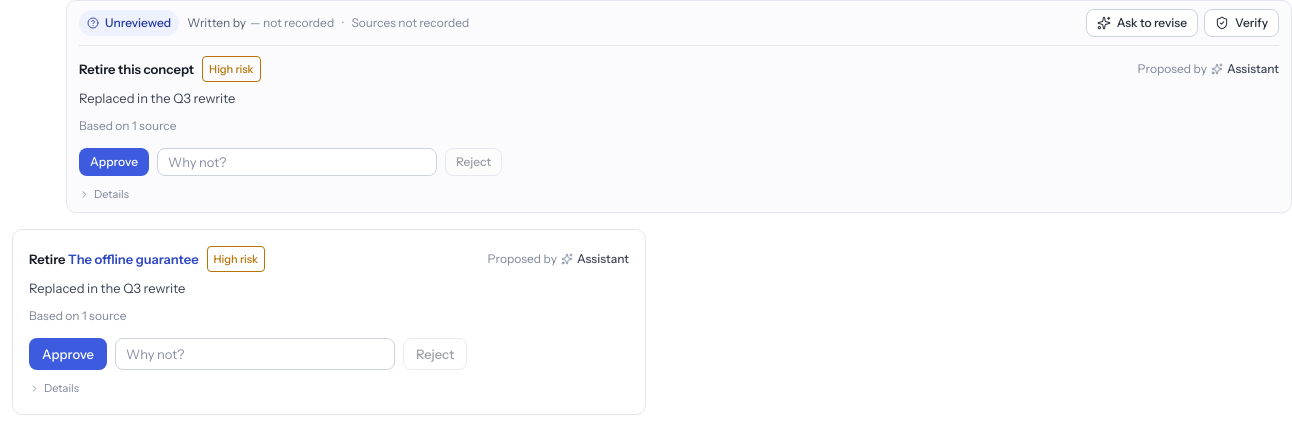
Scenario: the concept page (M52.2) › a decision in either place refreshes both
The image size is (1292, 432).
Click the button with test id "approve" below "this concept" at [114, 162], box [79,148,149,176]
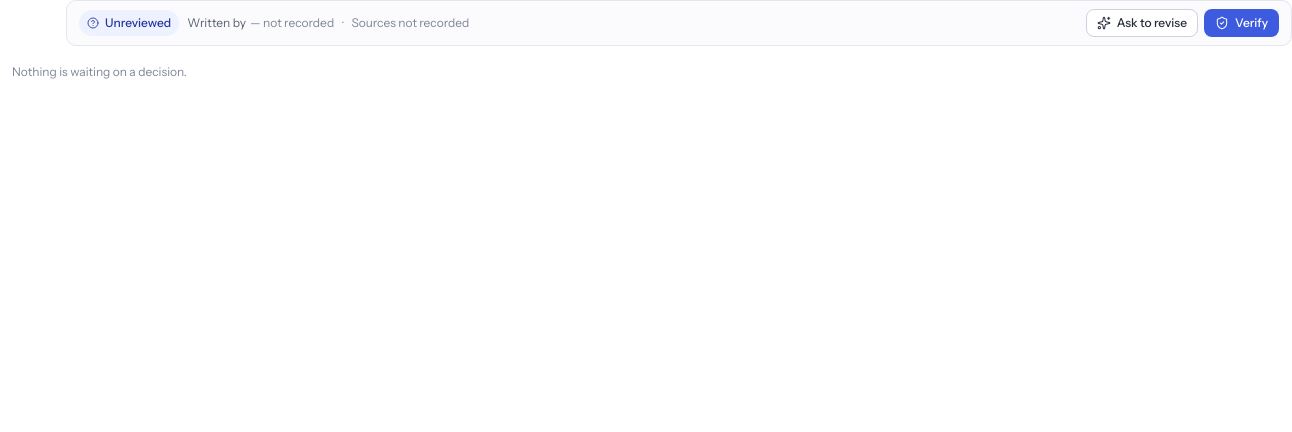
Now the element with test id "concept-proposals" is gone
Now the text with test id "section-empty" shows "Nothing is waiting", box [12,64,187,79]
